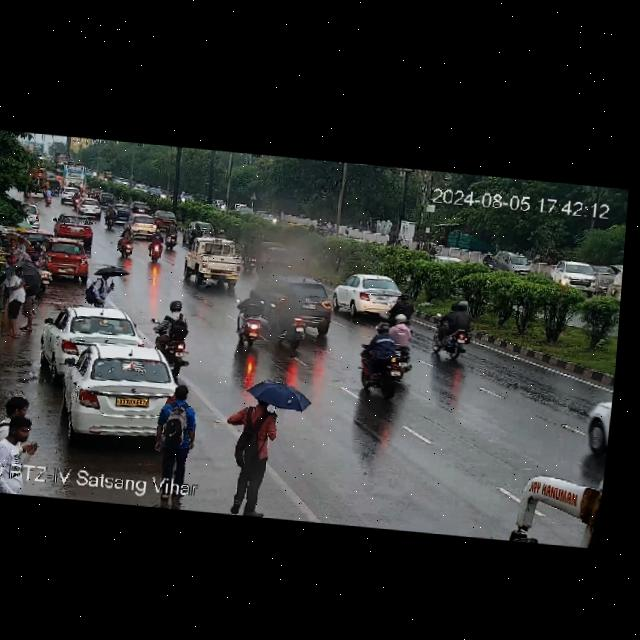bus: (503, 457, 604, 548), (58, 164, 87, 187)
car: (50, 341, 190, 447), (41, 301, 145, 371), (245, 271, 336, 333), (179, 235, 247, 291), (330, 269, 404, 318), (39, 235, 91, 280), (549, 258, 604, 291), (51, 212, 98, 241), (490, 250, 538, 276), (254, 242, 294, 271), (123, 214, 160, 238), (105, 205, 134, 224), (21, 202, 43, 227), (76, 197, 104, 216), (152, 208, 180, 225), (95, 192, 119, 207), (128, 200, 153, 214), (59, 187, 73, 203)
motorcycle: (351, 314, 420, 401), (151, 298, 196, 376), (430, 300, 482, 366), (272, 290, 308, 350), (234, 287, 266, 346), (115, 224, 139, 259), (143, 231, 166, 264), (158, 222, 181, 251), (165, 223, 186, 249), (101, 206, 119, 228), (187, 222, 201, 247), (42, 188, 58, 205), (71, 193, 78, 210)
person: (217, 387, 283, 517), (154, 383, 201, 478), (4, 265, 27, 335), (0, 416, 35, 462), (0, 389, 32, 439), (85, 269, 112, 311), (21, 286, 39, 330), (0, 255, 14, 311), (16, 237, 27, 252), (7, 238, 16, 247)
